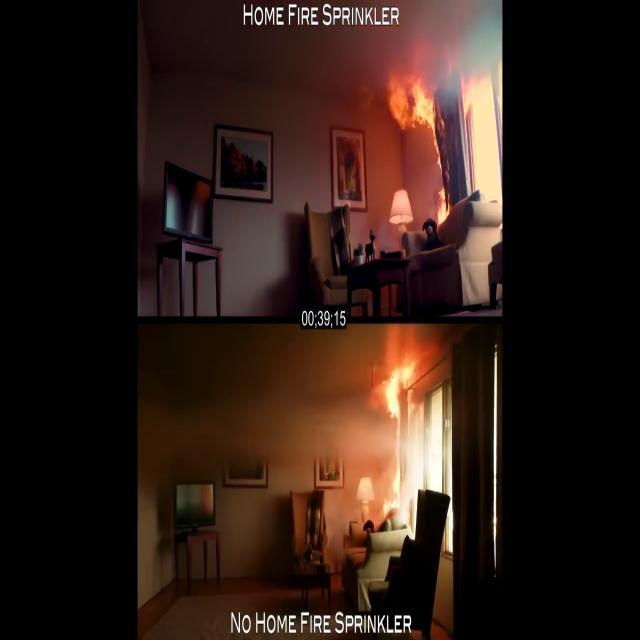Fire: (359, 328, 442, 443), (384, 64, 440, 134)
